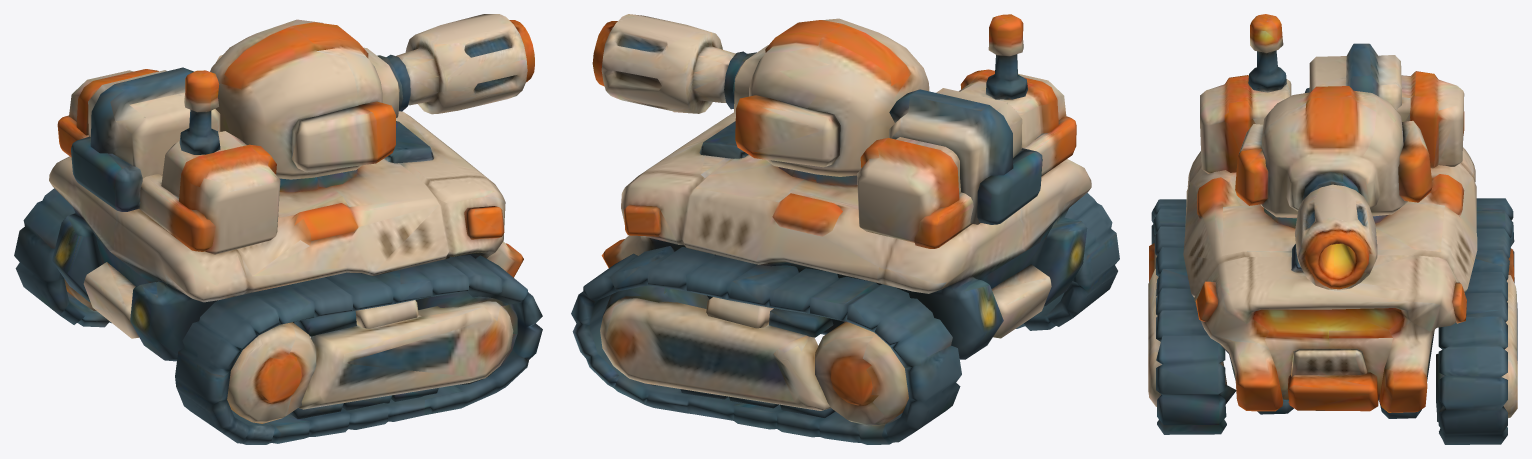
File: steel_tank.glb
3 renders of one model, left to right at view 1: azimuth 30°, elevation 25°; view 2: azimuth 150°, elevation 25°; view 3: azimuth 270°, elevation 25°, orthographic. The views are drawn at different scales.
Visible parts, largest first — view 1: tripo_node_027c4a04-3593-41d3-b22d-73e588f9831a; view 2: tripo_node_027c4a04-3593-41d3-b22d-73e588f9831a; view 3: tripo_node_027c4a04-3593-41d3-b22d-73e588f9831a.
Boxes of the visible parts, x1,y1,x2,y2 form: tripo_node_027c4a04-3593-41d3-b22d-73e588f9831a: (14, 14, 542, 444); tripo_node_027c4a04-3593-41d3-b22d-73e588f9831a: (571, 14, 1119, 444); tripo_node_027c4a04-3593-41d3-b22d-73e588f9831a: (1148, 14, 1517, 444).
Bounding box in the file's own units: 0.998 × 0.7793 × 0.8223.
Materials: 1 (1 with a texture image).
